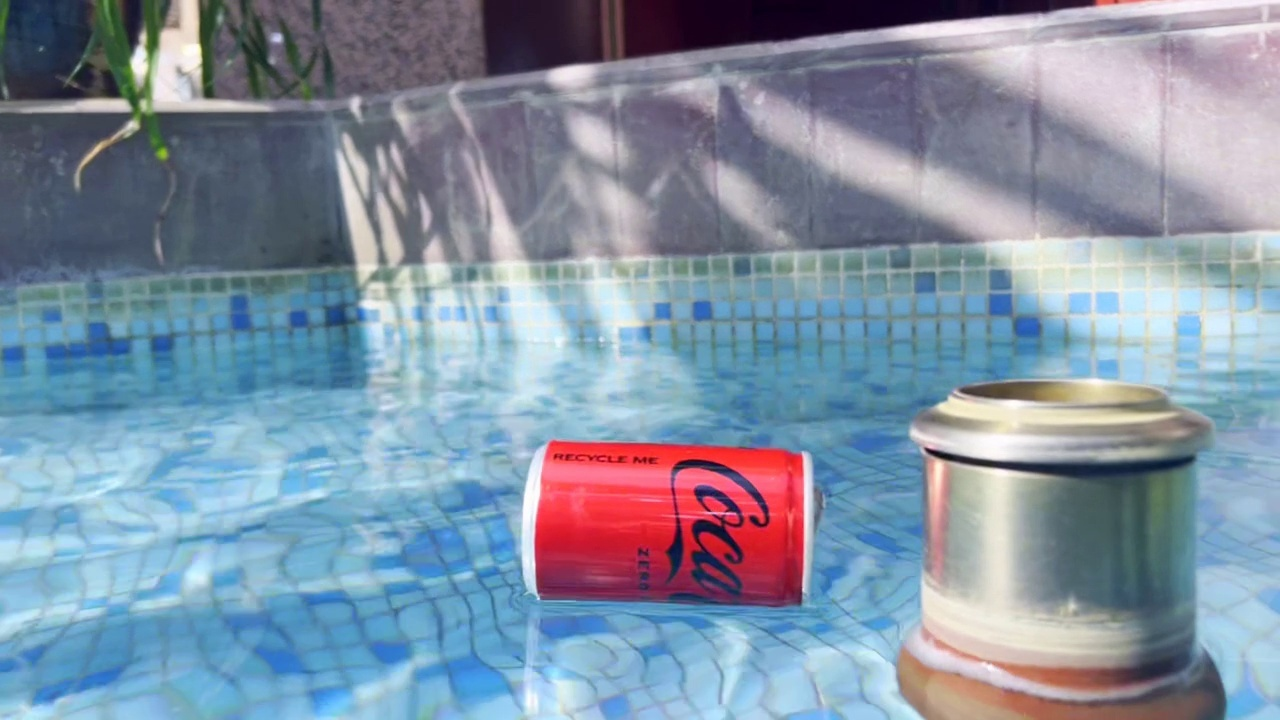debris: (510, 423, 830, 614)
